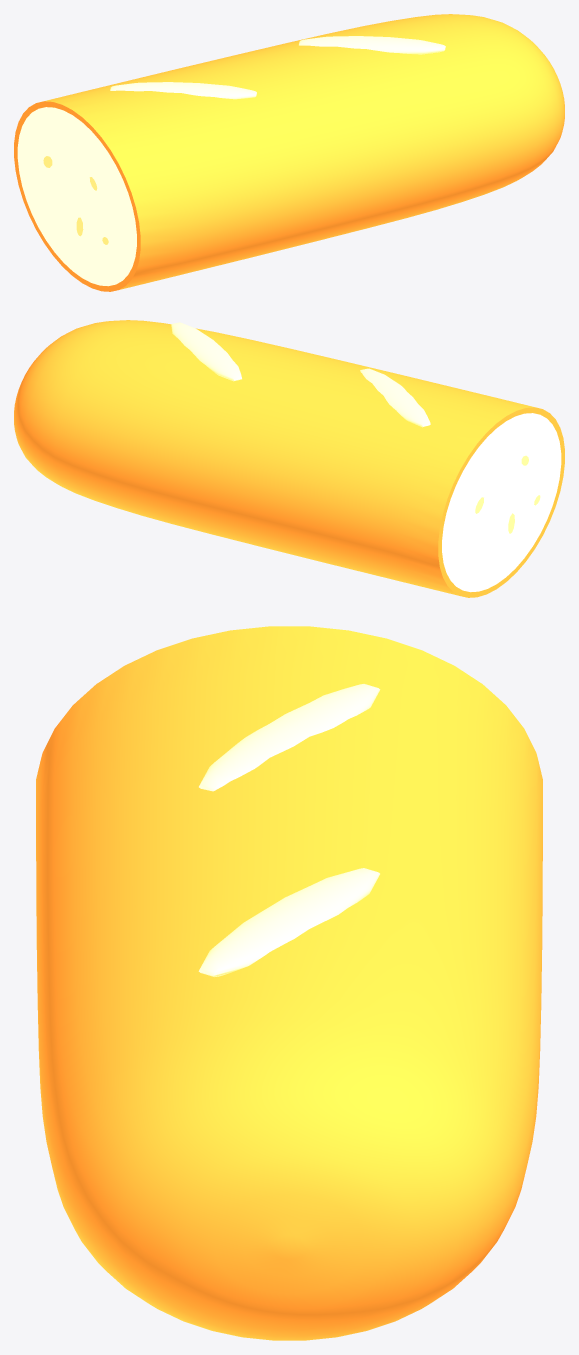
3 views of the same model, one above another, from view 1: azimuth 30°, elevation 25°; view 2: azimuth 150°, elevation 25°; view 3: azimuth 270°, elevation 25° (orthographic). The views are drawn at different scales.
Visible parts, largest first — view 1: Bread-left; view 2: Bread-left; view 3: Bread-left.
Part boxes in pixels (x1,y1,x2,y2): Bread-left: [14, 14, 564, 291]; Bread-left: [14, 320, 564, 597]; Bread-left: [36, 626, 542, 1340].
Bounding box in the file's own units: 0.9072 × 0.3091 × 0.4227.
